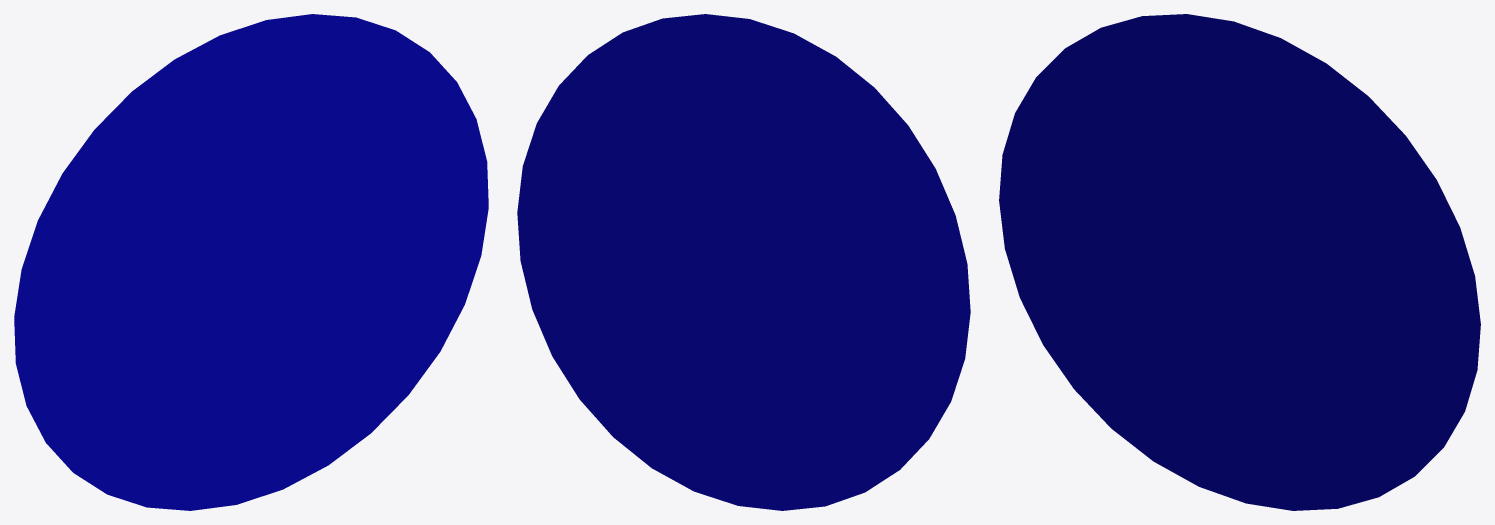
File: ButtonsGlass_MouseBlue_0.dae
The picture shows the model from 3 angles, left to right: view 1: azimuth 30°, elevation 25°; view 2: azimuth 150°, elevation 25°; view 3: azimuth 330°, elevation 25°; orthographic projection. The views are drawn at different scales.
Visible parts, largest first — view 1: ButtonsGlass_MouseBlue_0; view 2: ButtonsGlass_MouseBlue_0; view 3: ButtonsGlass_MouseBlue_0.
Boxes of the visible parts, <box> form: ButtonsGlass_MouseBlue_0: <box>14,14,488,510</box>; ButtonsGlass_MouseBlue_0: <box>517,14,970,510</box>; ButtonsGlass_MouseBlue_0: <box>999,14,1480,510</box>.
Bounding box in the file's own units: 0.00743 × 0.00741 × 0.000575.
